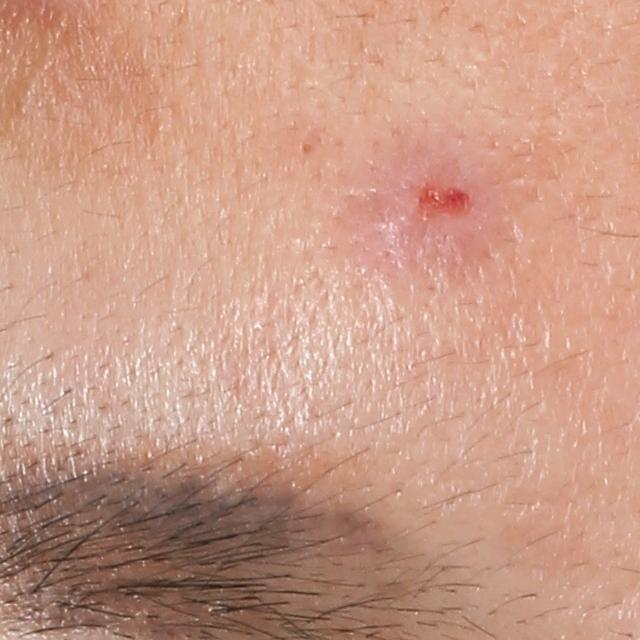comedo: (293, 135, 314, 159)
